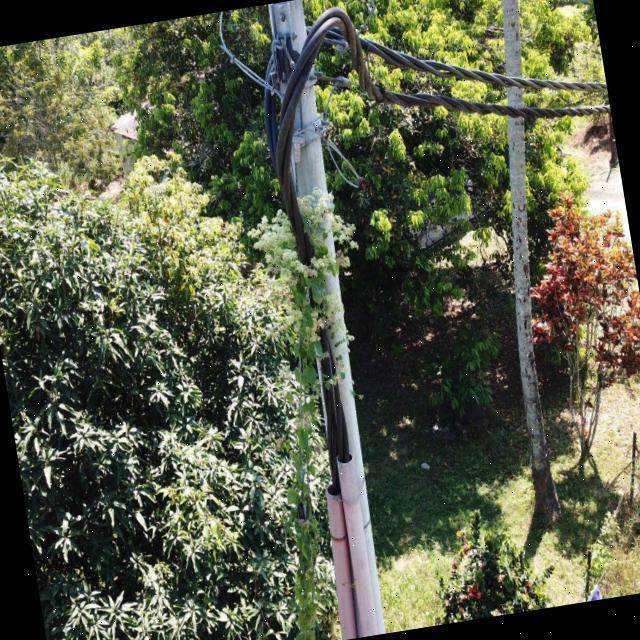critical vegetation: (221, 174, 424, 640)
